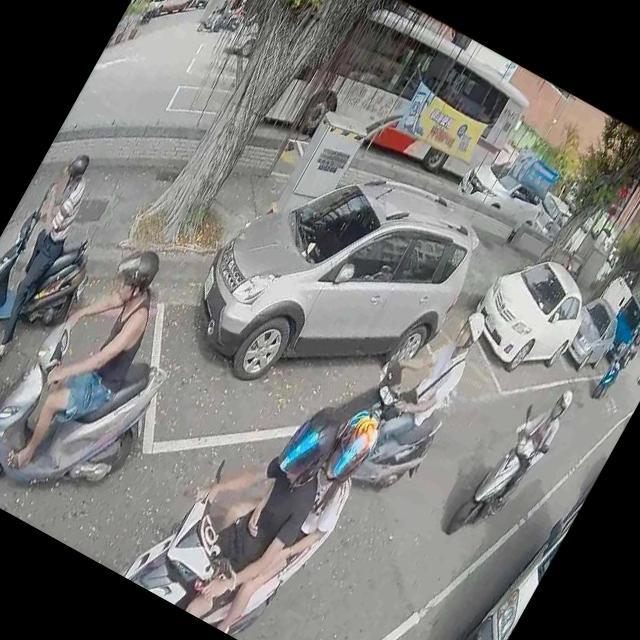person: (178, 353, 408, 640), (136, 368, 361, 640), (0, 222, 190, 501), (337, 292, 497, 510), (0, 144, 109, 366), (468, 374, 578, 528), (594, 338, 638, 399), (0, 432, 17, 502), (205, 0, 230, 31), (145, 0, 160, 11)
